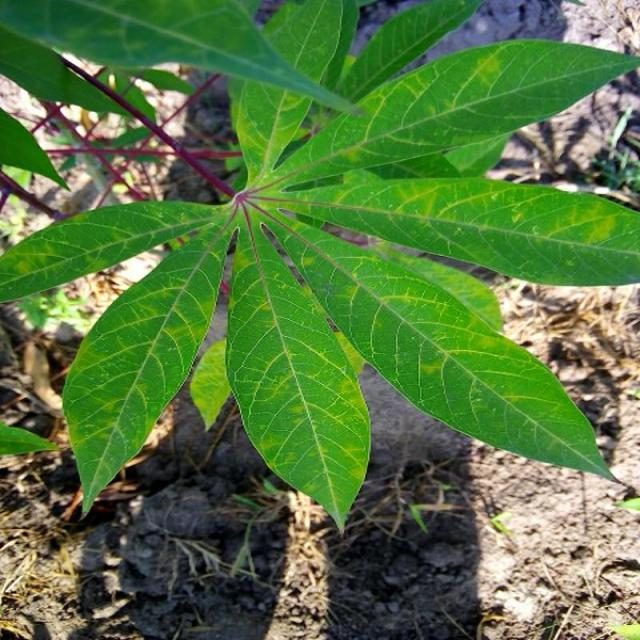cassava leaf: (3, 0, 640, 533), (283, 216, 624, 486), (62, 216, 234, 520), (226, 214, 372, 534)
